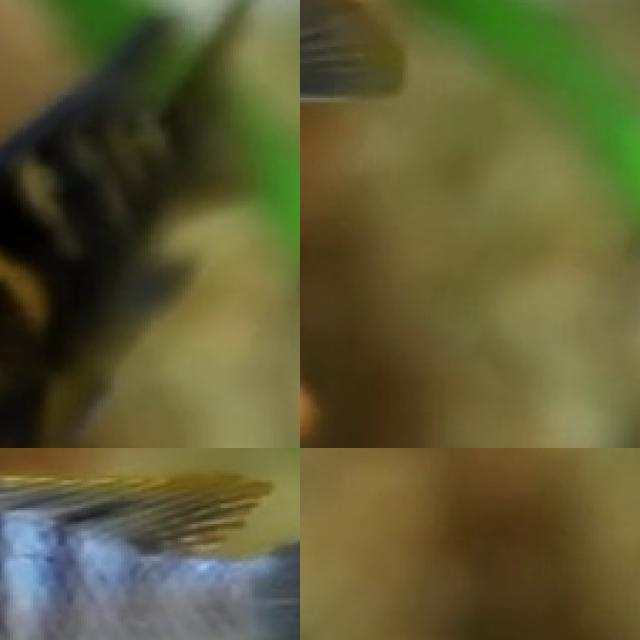fish: (0, 0, 300, 448), (0, 448, 300, 640), (300, 0, 408, 305)
